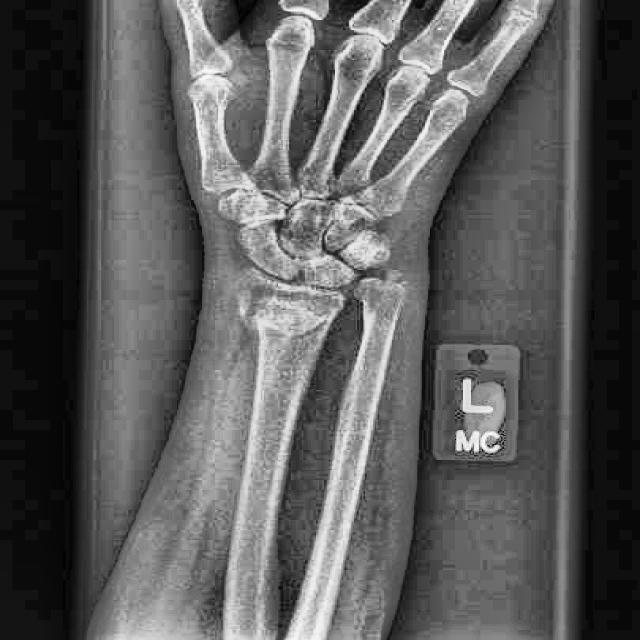wrist positive: (225, 304, 346, 358)
